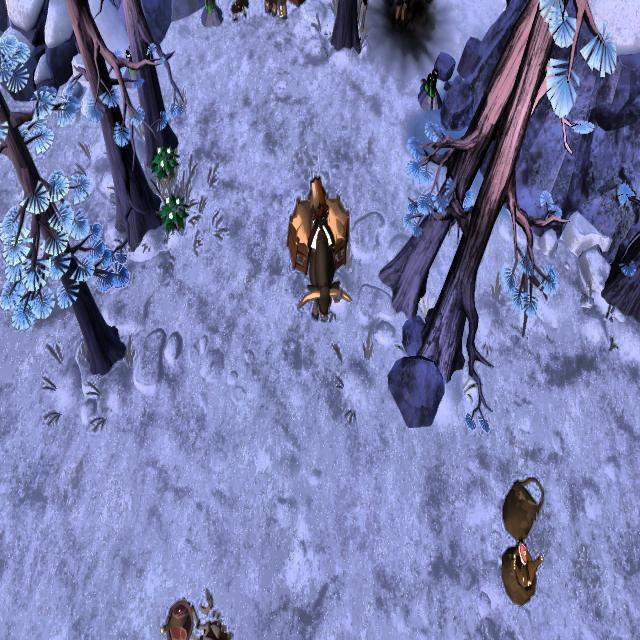fiber_t3: (158, 188, 190, 240), (153, 142, 178, 182)
ore_t3: (423, 70, 439, 100), (204, 0, 216, 16)
